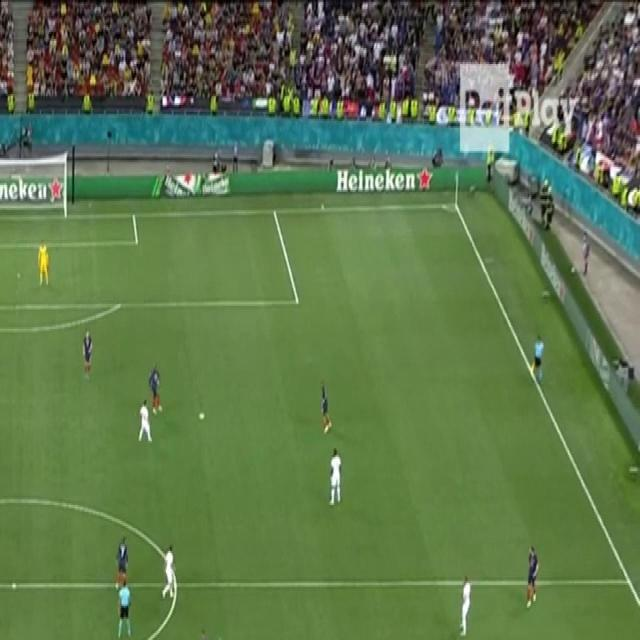Keeper: (116, 578, 132, 640), (532, 335, 546, 385)
another-player: (524, 546, 540, 610), (147, 360, 163, 418), (115, 536, 129, 592), (320, 379, 332, 436), (82, 328, 95, 380)
ball: (570, 263, 576, 275), (198, 410, 205, 420)
player-white: (327, 445, 343, 509), (160, 542, 177, 602), (458, 572, 471, 640), (138, 398, 153, 445), (197, 627, 211, 640), (211, 636, 227, 640)
referee: (36, 239, 50, 289)
